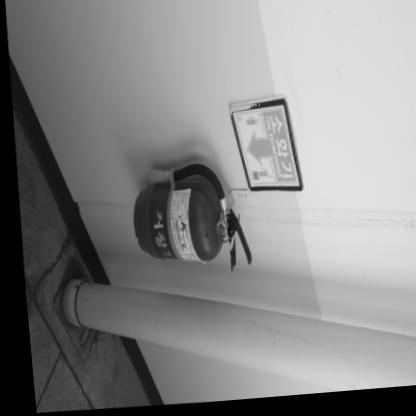FE: (124, 162, 247, 277)
